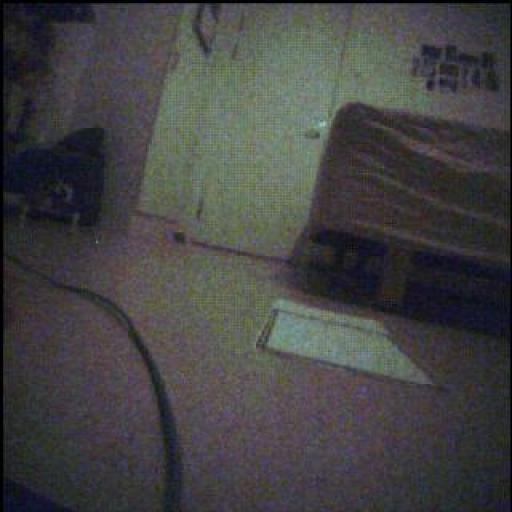pad: (257, 300, 435, 387)
